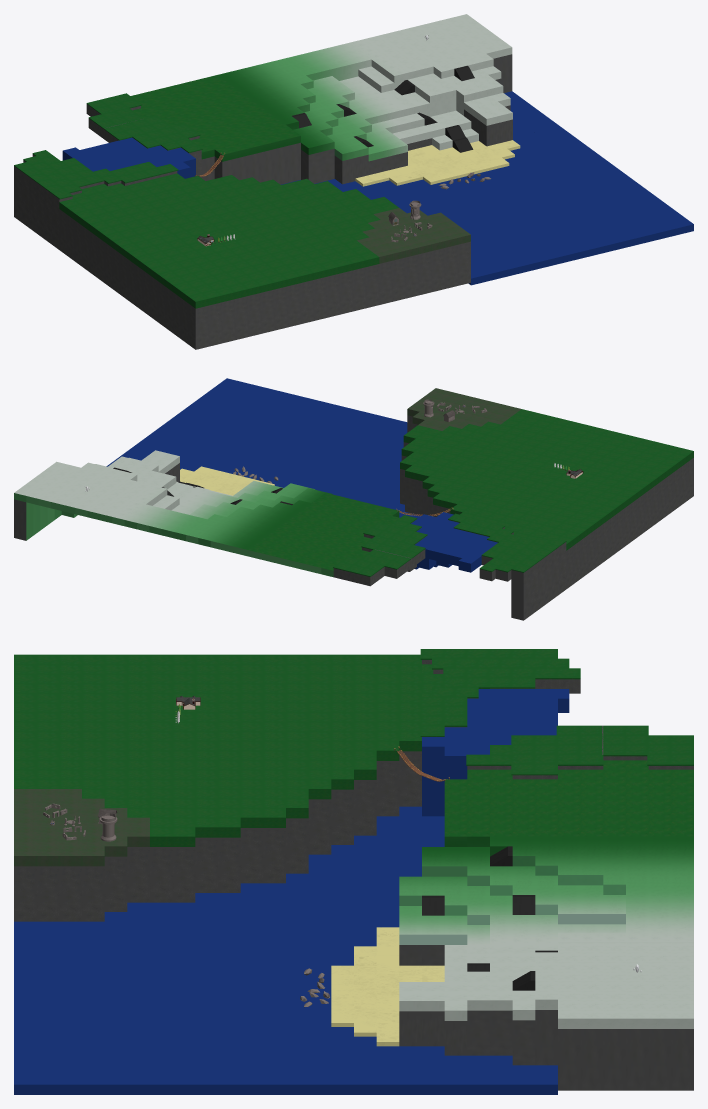
File: Terrain Full.fbx
3 renders of one model, top to bottom at view 1: azimuth 30°, elevation 25°; view 2: azimuth 150°, elevation 25°; view 3: azimuth 270°, elevation 25°, orthographic. The views are drawn at different scales.
Visible parts, largest first — view 1: Initial Land, Ocean, Second Land Layer 1, Upper Land, Second Land Layer 2, Second Land Layer 3, Beach, Waterfall, Second Land Layer 4, Second Land Layer 5, Second Land Layer 6; view 2: Initial Land, Ocean, Second Land Layer 1, Upper Land, Waterfall, Second Land Layer 2, Second Land Layer 3, Beach, Second Land Layer 4; view 3: Initial Land, Ocean, Second Land Layer 1, Upper Land, Second Land Layer 2, Second Land Layer 3, Waterfall, Beach, Second Land Layer 4, Second Land Layer 5.
Boxes of the visible parts, x1,y1,x2,y2 form: Initial Land: [59, 173, 470, 349]; Ocean: [281, 91, 693, 285]; Second Land Layer 1: [130, 14, 512, 184]; Upper Land: [14, 93, 202, 249]; Second Land Layer 2: [293, 66, 503, 183]; Second Land Layer 3: [327, 76, 512, 184]; Beach: [355, 140, 520, 189]; Waterfall: [62, 137, 195, 178]; Second Land Layer 4: [366, 112, 437, 174]; Second Land Layer 5: [392, 110, 471, 150]; Second Land Layer 6: [432, 128, 478, 152]; Initial Land: [400, 388, 693, 588]; Ocean: [106, 378, 438, 569]; Second Land Layer 1: [14, 461, 399, 577]; Upper Land: [333, 513, 566, 620]; Waterfall: [411, 512, 497, 572]; Second Land Layer 2: [95, 456, 332, 519]; Second Land Layer 3: [129, 450, 314, 514]; Beach: [180, 466, 278, 495]; Second Land Layer 4: [193, 481, 283, 497]; Initial Land: [14, 654, 443, 921]; Ocean: [14, 806, 557, 1094]; Second Land Layer 1: [444, 760, 693, 1090]; Upper Land: [420, 649, 693, 779]; Second Land Layer 2: [422, 847, 625, 1065]; Second Land Layer 3: [399, 876, 625, 1055]; Waterfall: [422, 689, 569, 816]; Beach: [300, 927, 444, 1046]; Second Land Layer 4: [399, 906, 489, 971]; Second Land Layer 5: [444, 945, 467, 981].
Bounding box in the file's own units: 38000 × 4783 × 30000.
